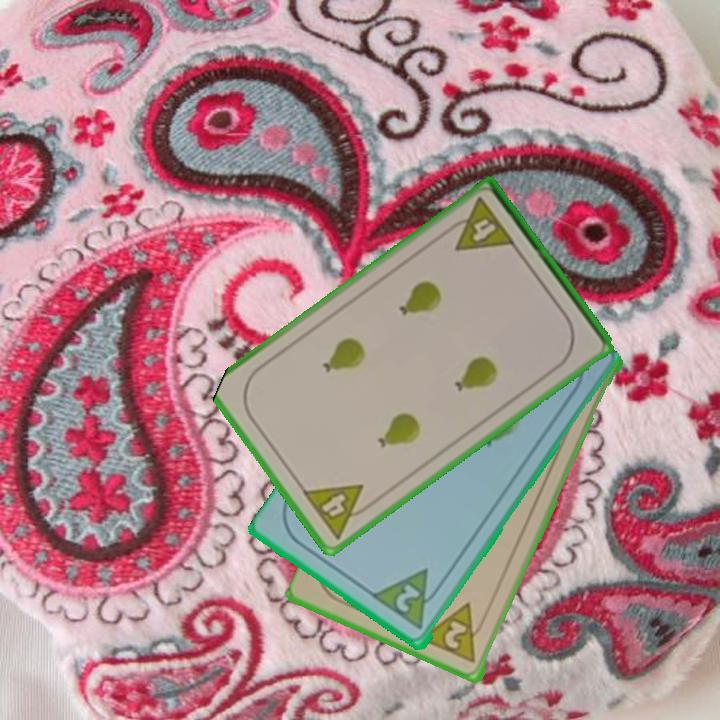2p: (370, 565, 448, 634), (419, 600, 490, 667)
4p: (298, 480, 378, 543), (441, 194, 518, 255)
